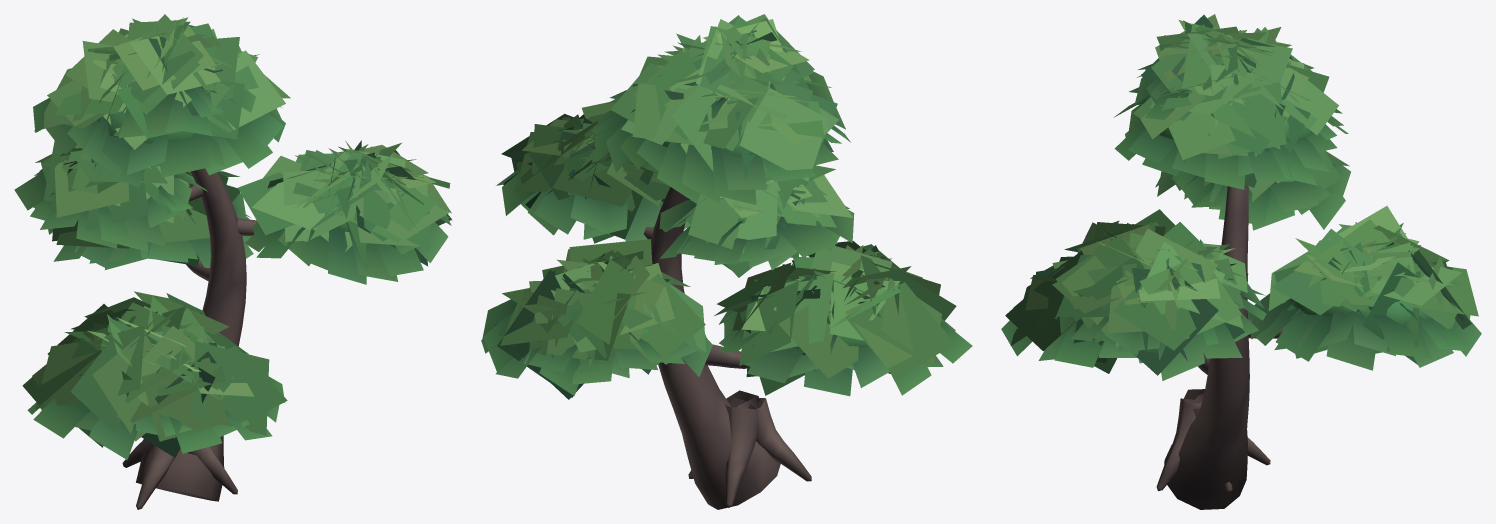
File: tree-village-pine-v0.glb
3 views of the same model, side by side, from view 1: azimuth 30°, elevation 25°; view 2: azimuth 150°, elevation 25°; view 3: azimuth 270°, elevation 25° (orthographic). The views are drawn at different scales.
Visible parts, largest first — view 1: cards_pine, bark, foliage; view 2: cards_pine, bark; view 3: cards_pine, bark, foliage.
Part boxes in pixels (<box>): cards_pine: <box>14,14,451,459</box>; bark: <box>122,168,257,509</box>; foliage: <box>98,111,348,231</box>; cards_pine: <box>481,14,972,399</box>; bark: <box>644,187,811,509</box>; cards_pine: <box>1001,14,1481,380</box>; bark: <box>1156,184,1286,509</box>; foliage: <box>1147,95,1432,325</box>.
Bounding box in the file's own units: 5.75 × 6.13 × 5.62.
